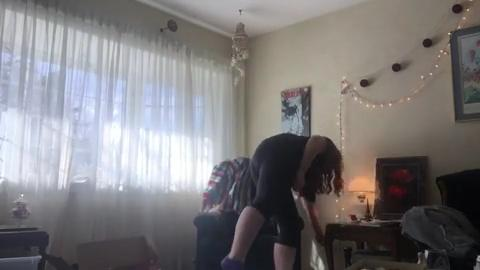blanket: (201, 158, 248, 213)
clothes: (401, 204, 475, 258)
light: (333, 1, 476, 221), (348, 176, 375, 219)
person: (219, 133, 343, 269)
picture: (374, 157, 426, 220), (448, 24, 479, 121), (279, 86, 310, 138)
sofa_couch: (193, 158, 303, 269), (415, 168, 479, 268)
table_desk: (324, 221, 401, 269), (1, 224, 49, 269)
